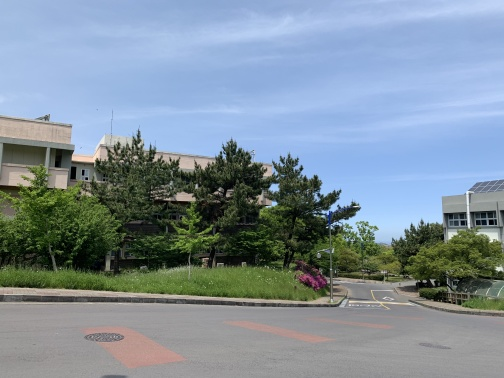College Of Education: (1, 108, 285, 281)
